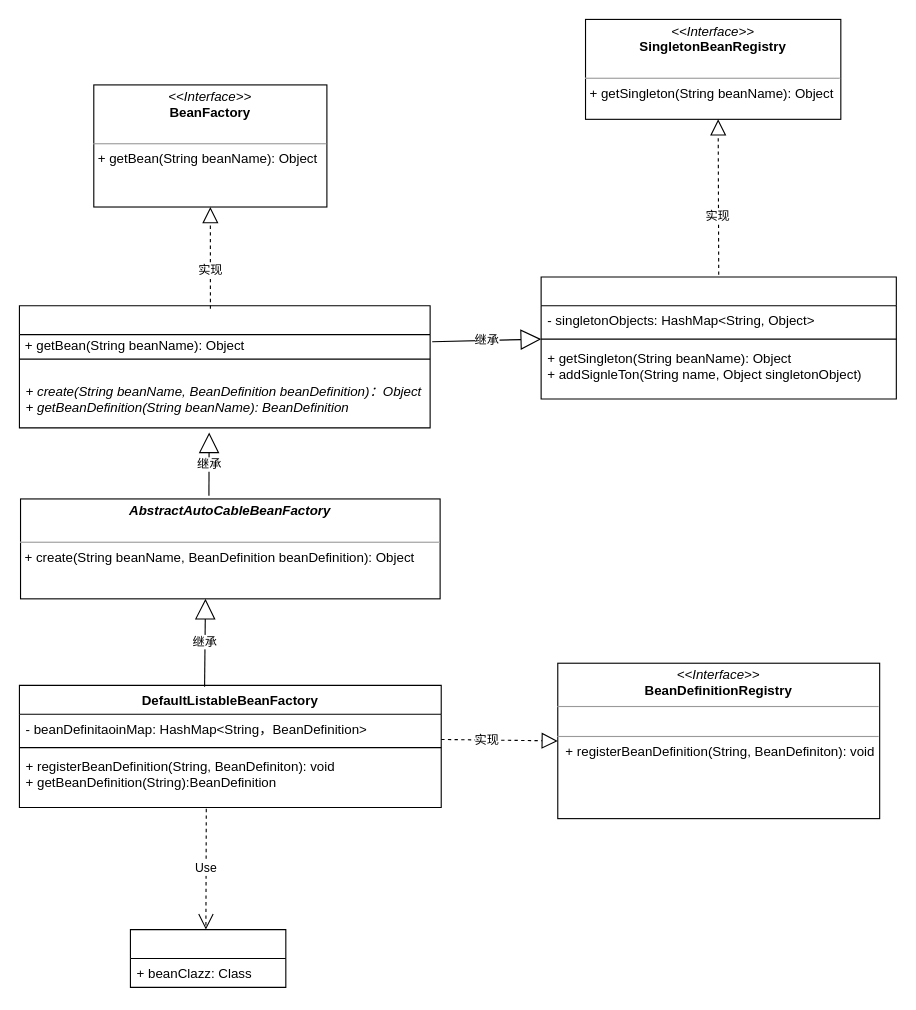
This 916x1010 diagram has some shape labels left out. Each missing label, with the box of its shape:
AbstractBeanFactory: (18, 305, 430, 428)
BeanDefinition: (129, 929, 286, 987)
DefaultSingletonBeanRegistry: (540, 276, 896, 399)
